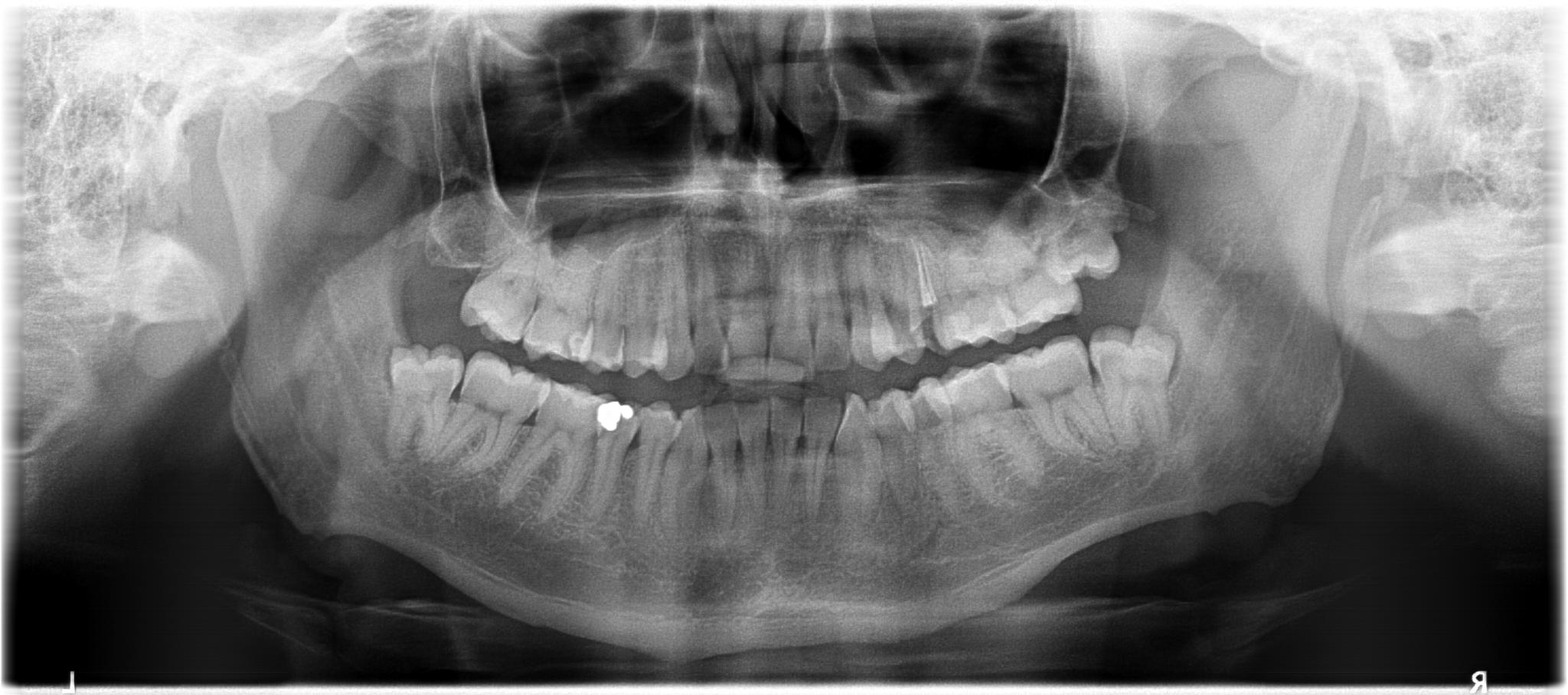Premolars: (581, 224, 1568, 576), (331, 212, 968, 610), (577, 156, 1568, 367), (232, 166, 665, 507)
